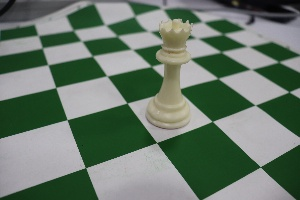white_queen: (137, 6, 199, 129)
